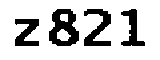1: (118, 6, 146, 51)
2: (81, 6, 113, 50)
8: (46, 6, 80, 49)
z: (10, 15, 43, 49)
